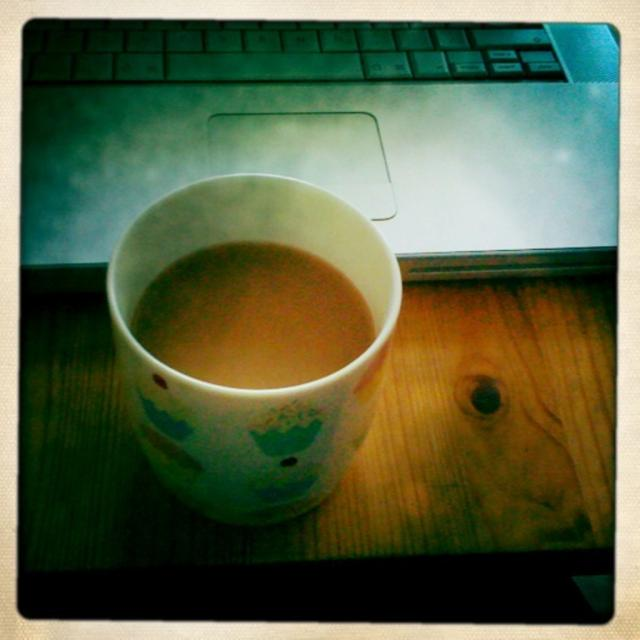Tea: (132, 248, 370, 392)
